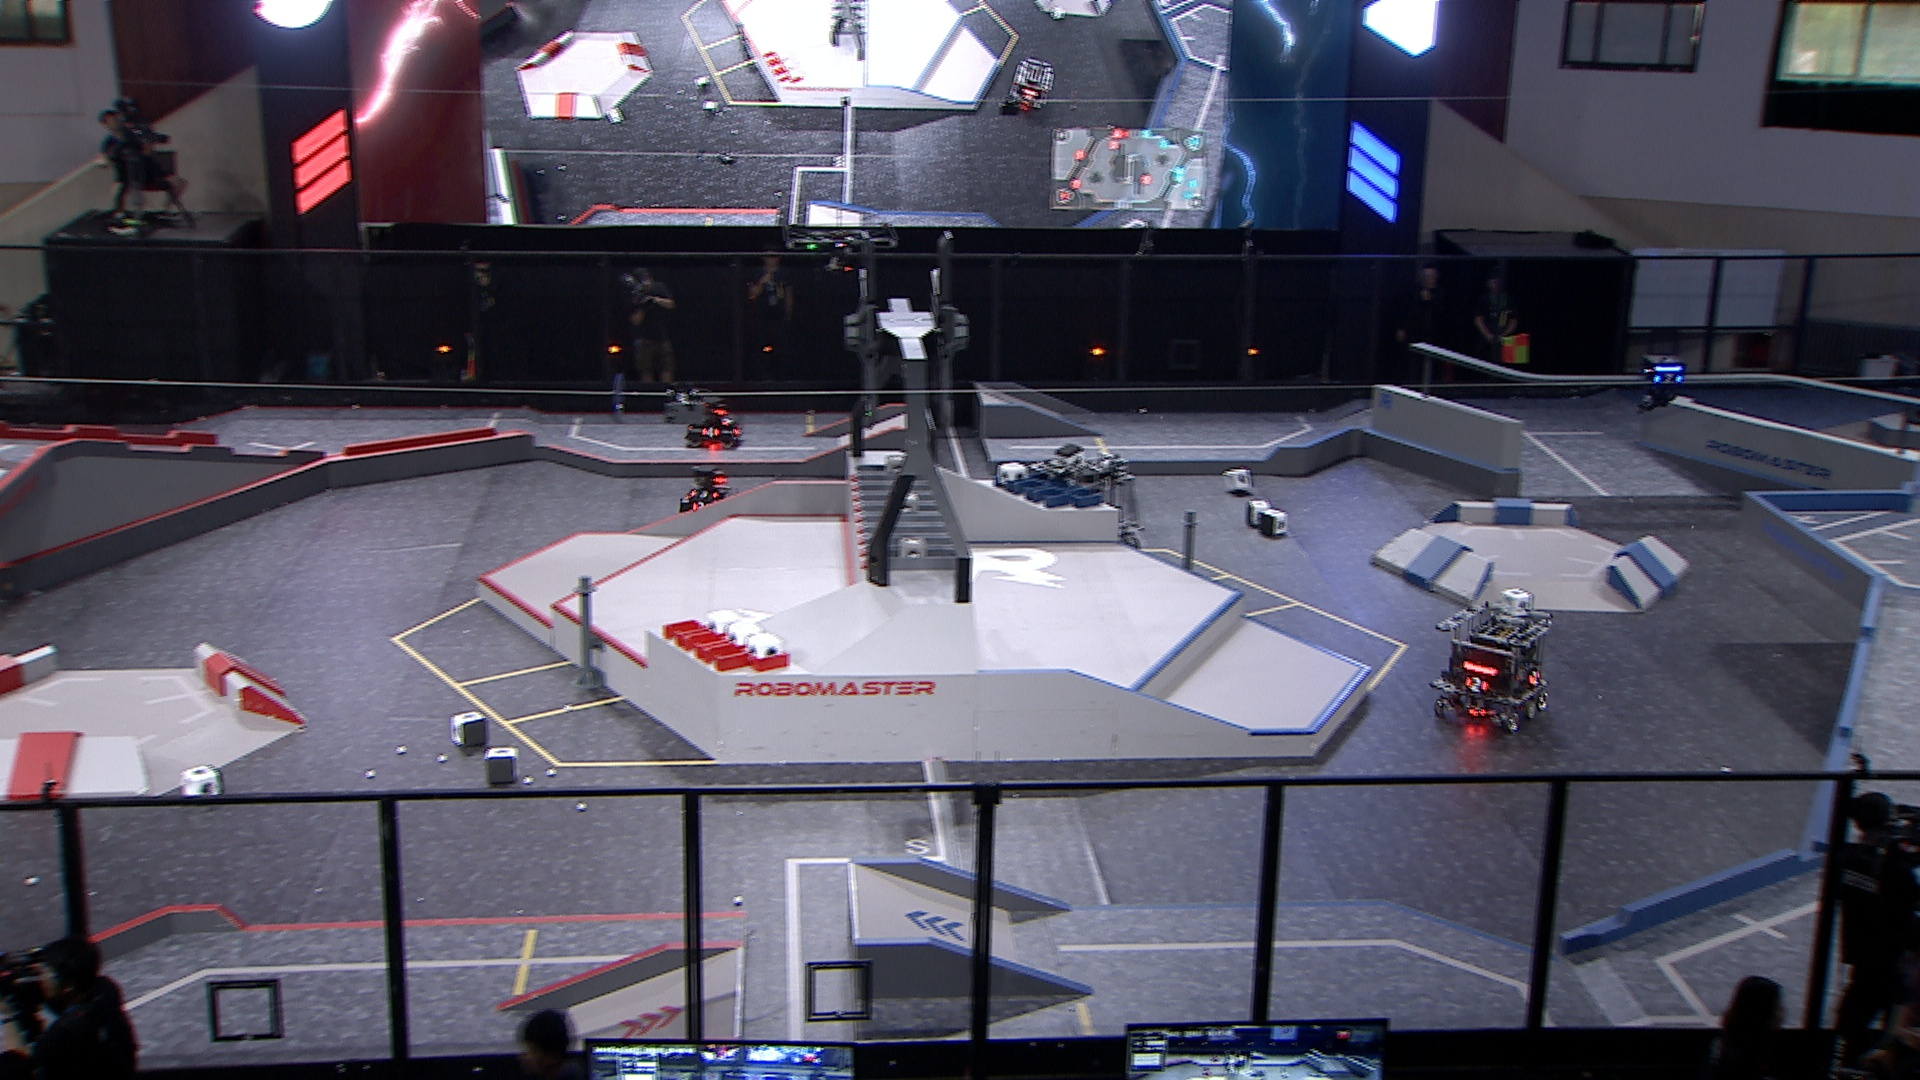armor: (1465, 676, 1491, 698), (1654, 371, 1684, 386), (688, 489, 719, 501), (700, 425, 723, 439), (1528, 669, 1543, 688), (692, 501, 708, 514), (721, 417, 737, 427)
car: (1428, 603, 1555, 732), (1030, 451, 1149, 553), (684, 394, 745, 448), (679, 465, 735, 520)
ignore: (1006, 58, 1054, 113)
watcher: (1633, 357, 1688, 414)
